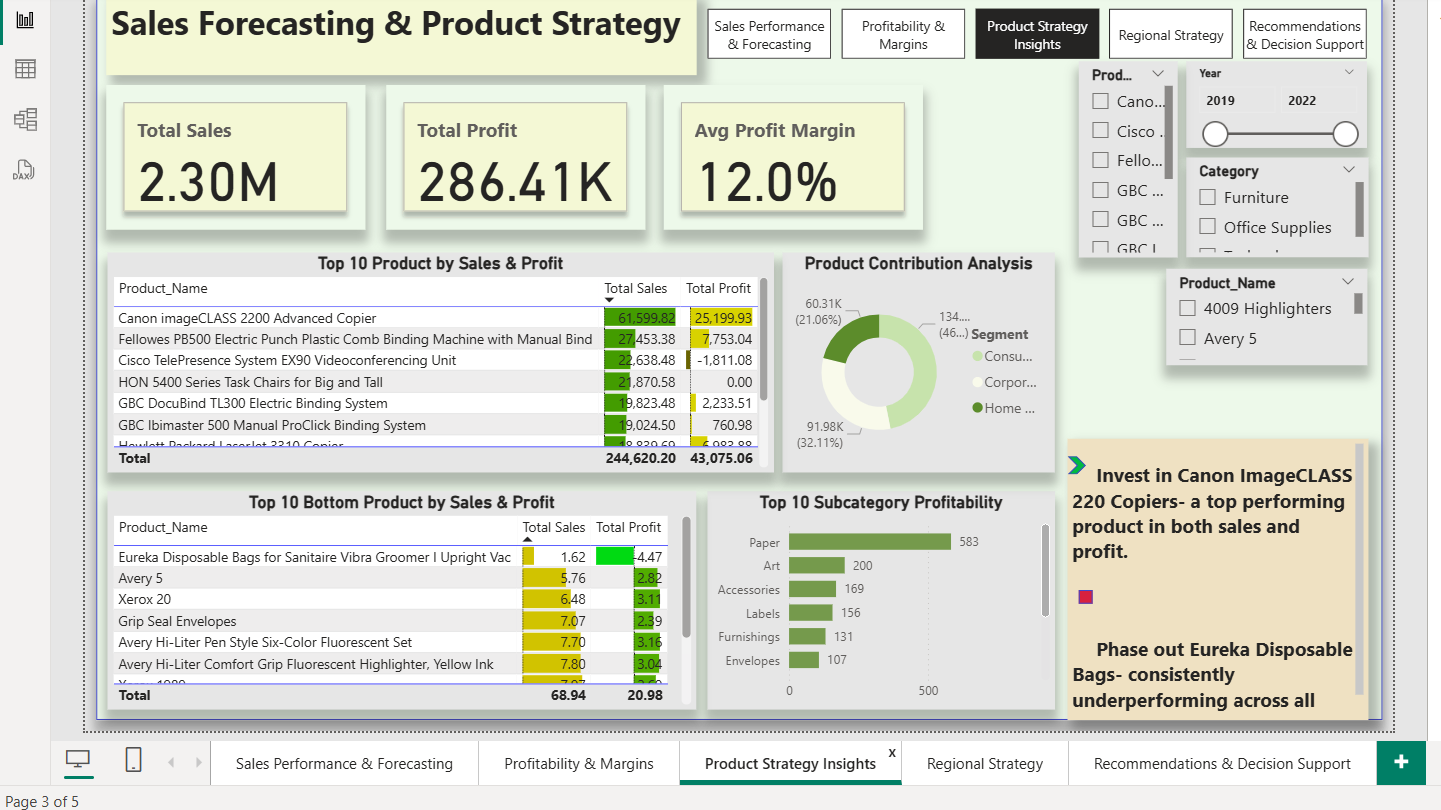

The dashboard page shown, as its layout file describes it:
{"tool":"powerbi","page":{"name":"Product Strategy Insights","canvas":[1280,720],"ordinal":2},"visuals":[{"type":"shape","box":[11,0,1258.3,709.2],"z":0},{"type":"group","id":"g1","title":"Group 1","box":[961.1,434.1,294.7,275.1],"z":0,"group":"g2"},{"type":"textbox","box":[961.1,434.1,294.7,275.1],"z":0,"group":"g1"},{"type":"textbox","box":[20.6,0,577.7,78.2],"z":1000},{"type":"shape","box":[961.1,450.9,18.1,17.9],"z":1000,"group":"g1"},{"type":"shape","box":[972.4,581.7,13.5,13.4],"z":1000,"group":"g2"},{"type":"cardVisual","fields":{"Data":["Superstore-Cleaned_Data.Total Sales"]},"box":[20.6,87.8,253.9,141.3],"z":2000},{"type":"cardVisual","fields":{"Data":["Superstore-Cleaned_Data.Total Profit"]},"box":[295,87.8,253.9,141.3],"z":3000},{"type":"cardVisual","fields":{"Data":["Superstore-Cleaned_Data.Avg Profit Margin"]},"box":[566.7,87.8,253.9,141.3],"z":4000},{"type":"pageNavigator","box":[609.3,13.7,646.3,49.4],"z":5000},{"type":"barChart","title":"Top 10 Subcategory Profitability","fields":{"Y":["Sum(Superstore-Cleaned_Data.Profit_Margin)"],"Category":["Superstore-Cleaned_Data.Subcategory"]},"box":[609,485.5,339.9,214],"z":6000},{"type":"donutChart","title":"Product Contribution Analysis","fields":{"Category":["Superstore-Cleaned_Data.Segment"],"Y":["Superstore-Cleaned_Data.Total Profit"]},"box":[682.3,251.9,266.6,215.2],"z":7000},{"type":"tableEx","title":"Top 10 Product by Sales & Profit","fields":{"Values":["Superstore-Cleaned_Data.Product_Name","Superstore-Cleaned_Data.Total Sales","Superstore-Cleaned_Data.Total Profit"]},"box":[22,251.9,651.8,215.2],"z":8000},{"type":"slicer","fields":{"Values":["Superstore-Cleaned_Data.Year"]},"box":[1077.2,64.5,177,85.1],"z":9000},{"type":"slicer","fields":{"Values":["Superstore-Cleaned_Data.Category"]},"box":[1077.2,159.2,178.4,97.4],"z":10000},{"type":"slicer","fields":{"Values":["Superstore-Cleaned_Data.Product_Name"]},"box":[972.2,64.8,96.6,192],"z":11000},{"type":"tableEx","title":"Top 10 Bottom Product by Sales & Profit","fields":{"Values":["Superstore-Cleaned_Data.Product_Name","Superstore-Cleaned_Data.Total Sales","Superstore-Cleaned_Data.Total Profit"]},"box":[22,485.5,576,214],"z":12000},{"type":"slicer","fields":{"Values":["Superstore-Cleaned_Data.Product_Name"]},"box":[1057.8,267.8,196.9,94.2],"z":13000},{"type":"group","id":"g2","title":"Group 2","box":[961.1,434.1,294.7,275.1],"z":13005}]}

Visuals, with their boxes on the page's 1280x720 design canvas (x1, y1, x2, y2). These are canvas units, not pixel positions in the 1441x810 screenshot, which may show the page scaled, cropped or inside an application window:
shape: BBox(11, 0, 1269, 709)
"Group 1" group: BBox(961, 434, 1256, 709)
textbox: BBox(961, 434, 1256, 709)
textbox: BBox(21, 0, 598, 78)
shape: BBox(961, 451, 979, 469)
shape: BBox(972, 582, 986, 595)
cardVisual - Superstore-Cleaned_Data.Total Sales: BBox(21, 88, 274, 229)
cardVisual - Superstore-Cleaned_Data.Total Profit: BBox(295, 88, 549, 229)
cardVisual - Superstore-Cleaned_Data.Avg Profit Margin: BBox(567, 88, 821, 229)
pageNavigator: BBox(609, 14, 1256, 63)
"Top 10 Subcategory Profitability" barChart: BBox(609, 486, 949, 700)
"Product Contribution Analysis" donutChart: BBox(682, 252, 949, 467)
"Top 10 Product by Sales & Profit" tableEx: BBox(22, 252, 674, 467)
slicer - Superstore-Cleaned_Data.Year: BBox(1077, 64, 1254, 150)
slicer - Superstore-Cleaned_Data.Category: BBox(1077, 159, 1256, 257)
slicer - Superstore-Cleaned_Data.Product_Name: BBox(972, 65, 1069, 257)
"Top 10 Bottom Product by Sales & Profit" tableEx: BBox(22, 486, 598, 700)
slicer - Superstore-Cleaned_Data.Product_Name: BBox(1058, 268, 1255, 362)
"Group 2" group: BBox(961, 434, 1256, 709)
